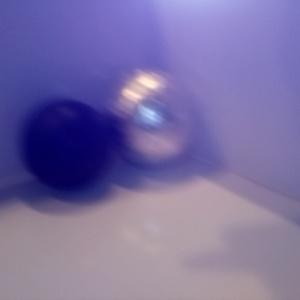alive_ball: (103, 67, 197, 168)
dead_ball: (18, 97, 114, 190)
